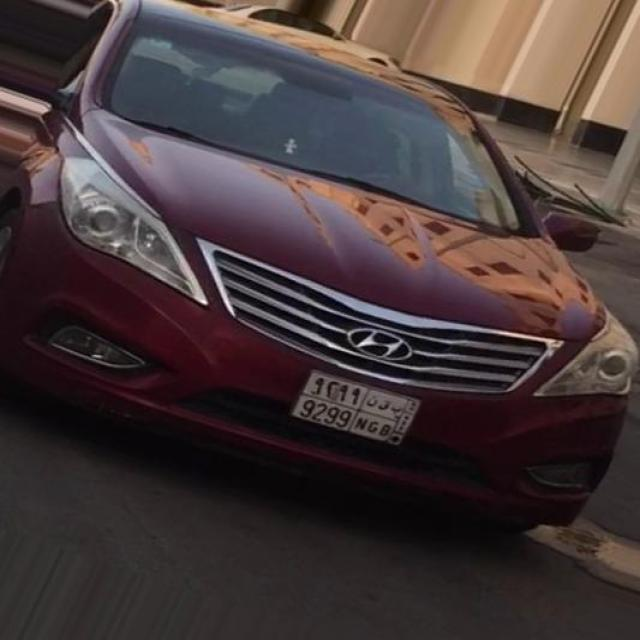Car-plate: (284, 356, 433, 463)
